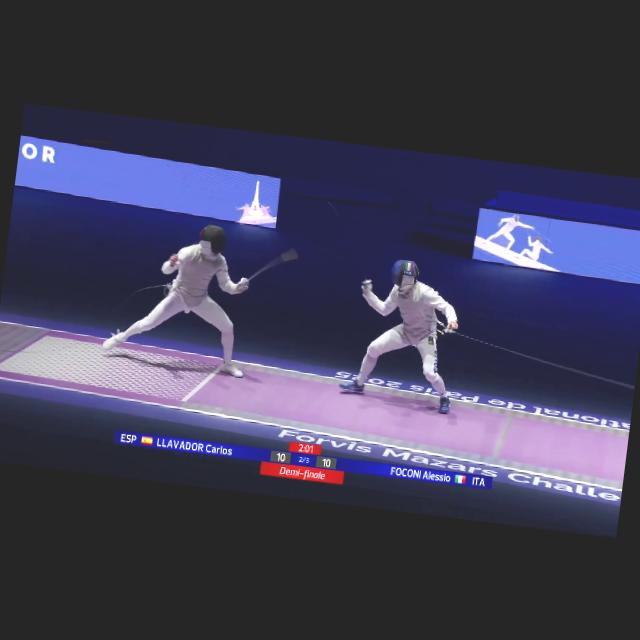blade: (236, 246, 298, 296)
